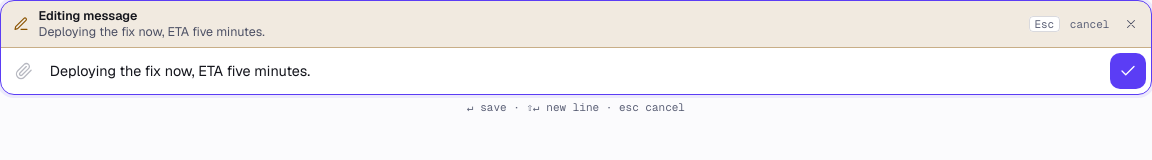
Scenario: MessageForm — edit › stays in edit mode with the text intact when saving fails
Step 1. Type " Update:" into the text box named "message" → (576, 71), box [46,53,1106,89]
Then press Enter
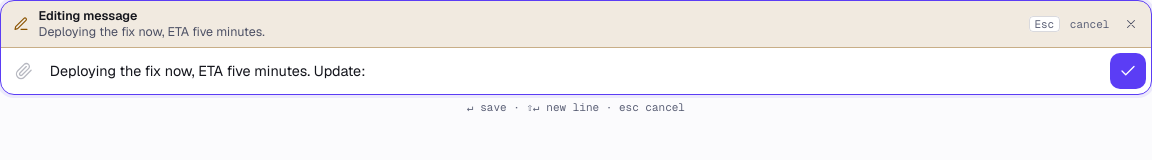
expect the text box named "message" holds "Deploying the fix now, ETA five minutes. Update:": met, box [46,53,1106,89]
